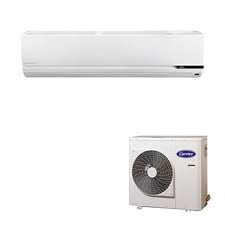ac: (17, 27, 206, 86)
